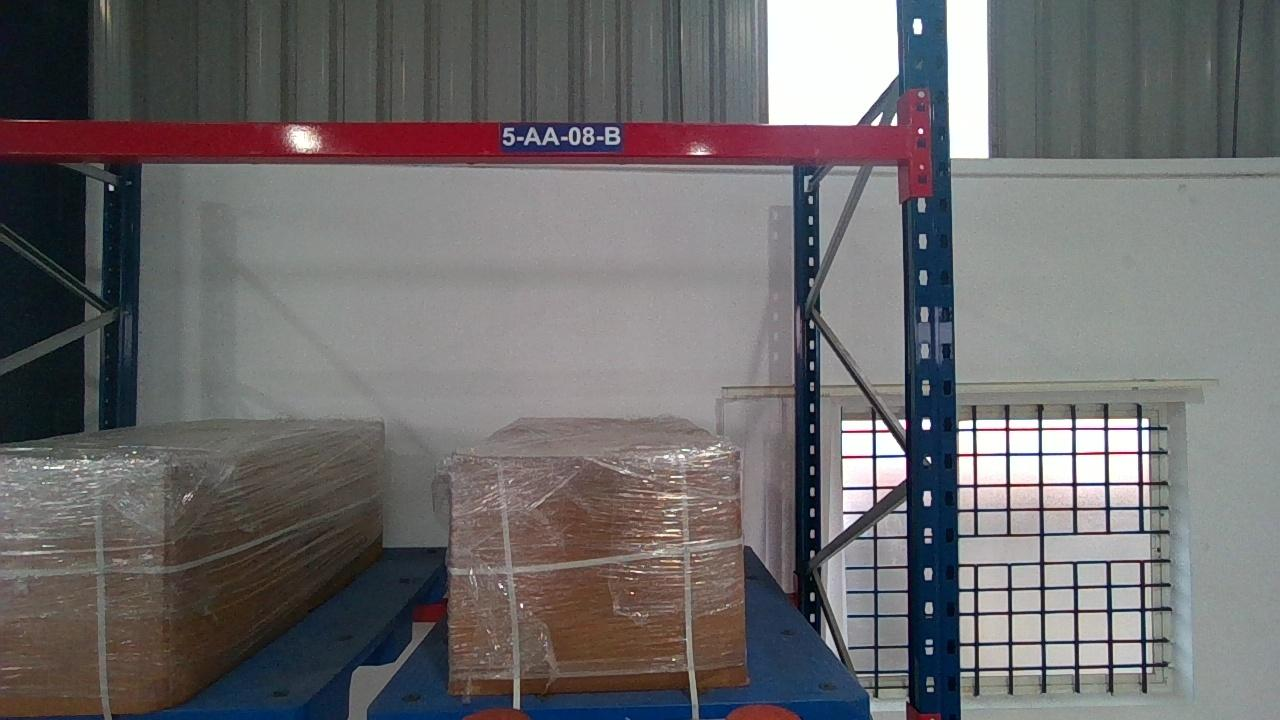h_rack: (3, 118, 908, 160)
